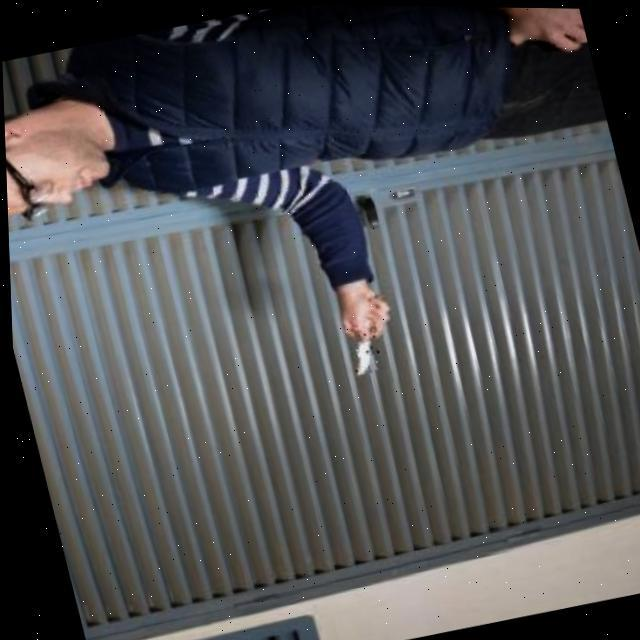knife: (342, 321, 384, 374)
